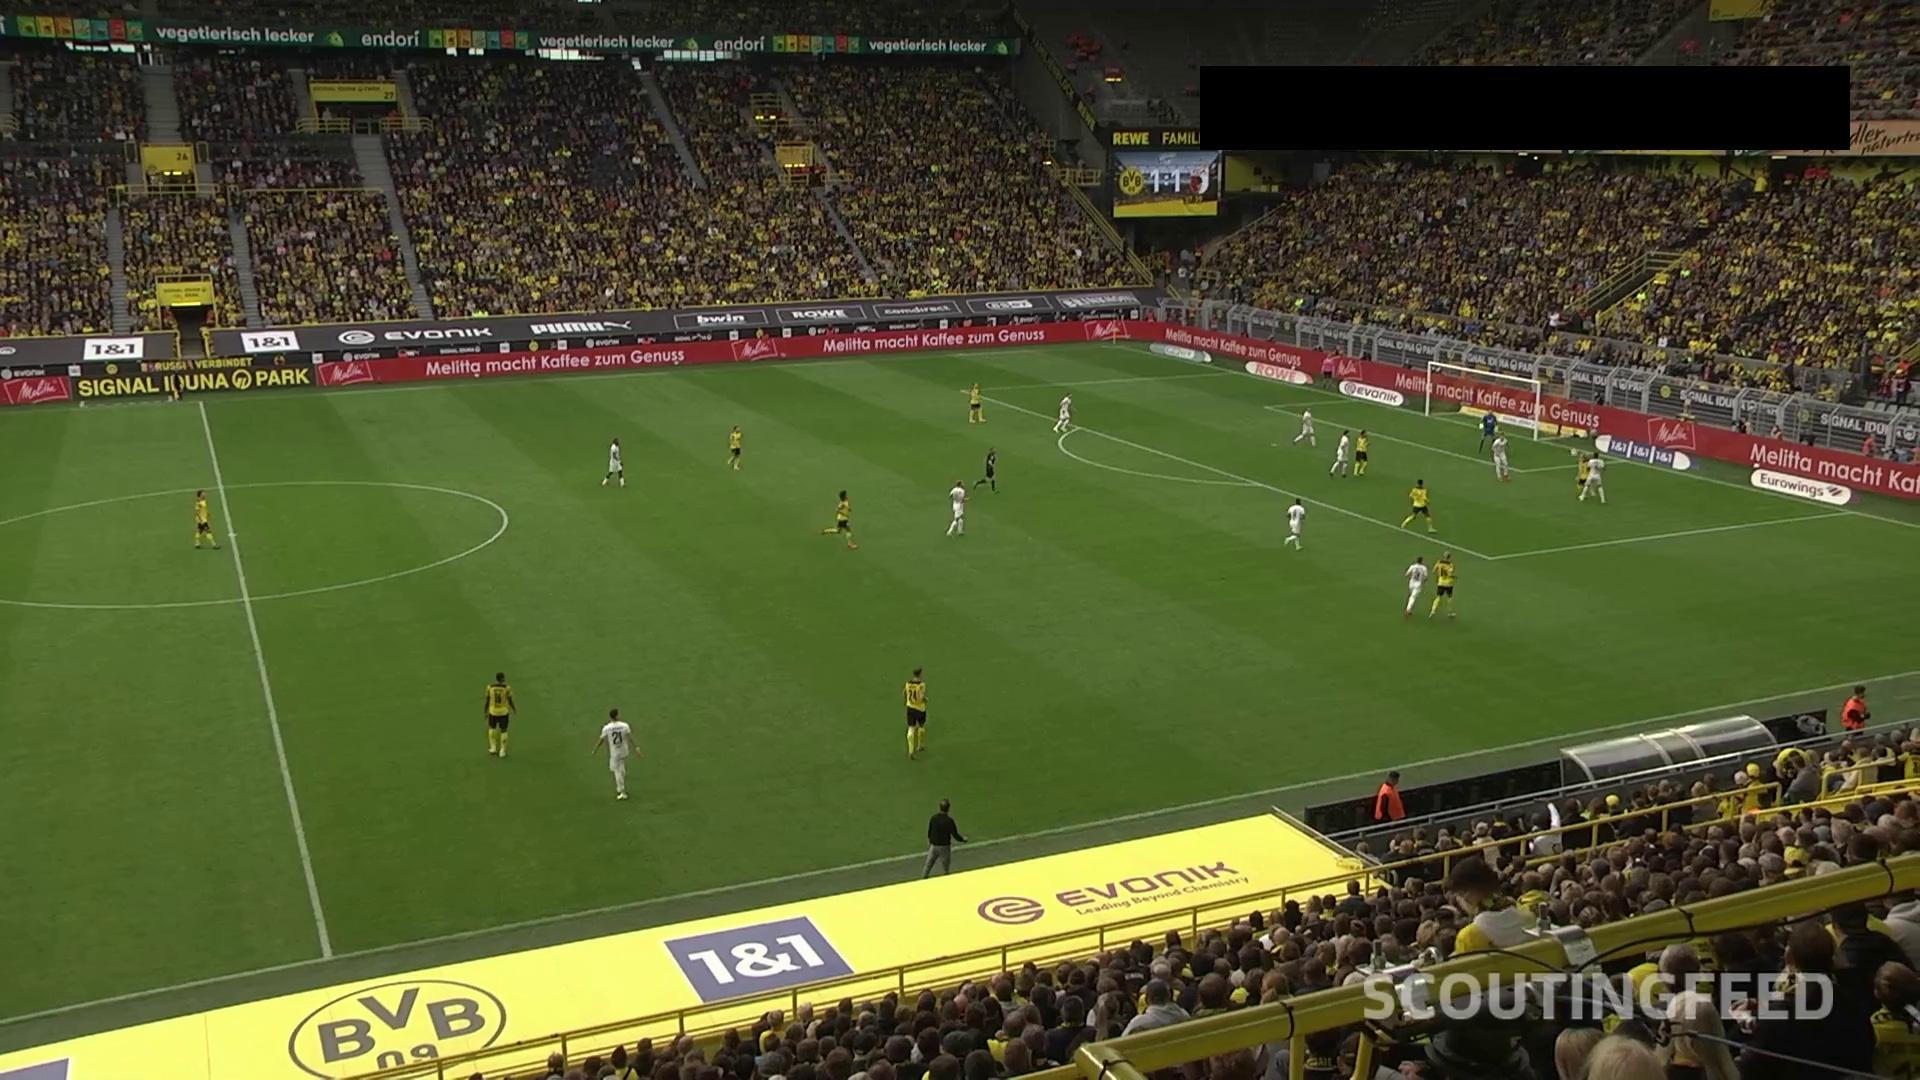Location-of-ball: (1571, 444, 1592, 463)
